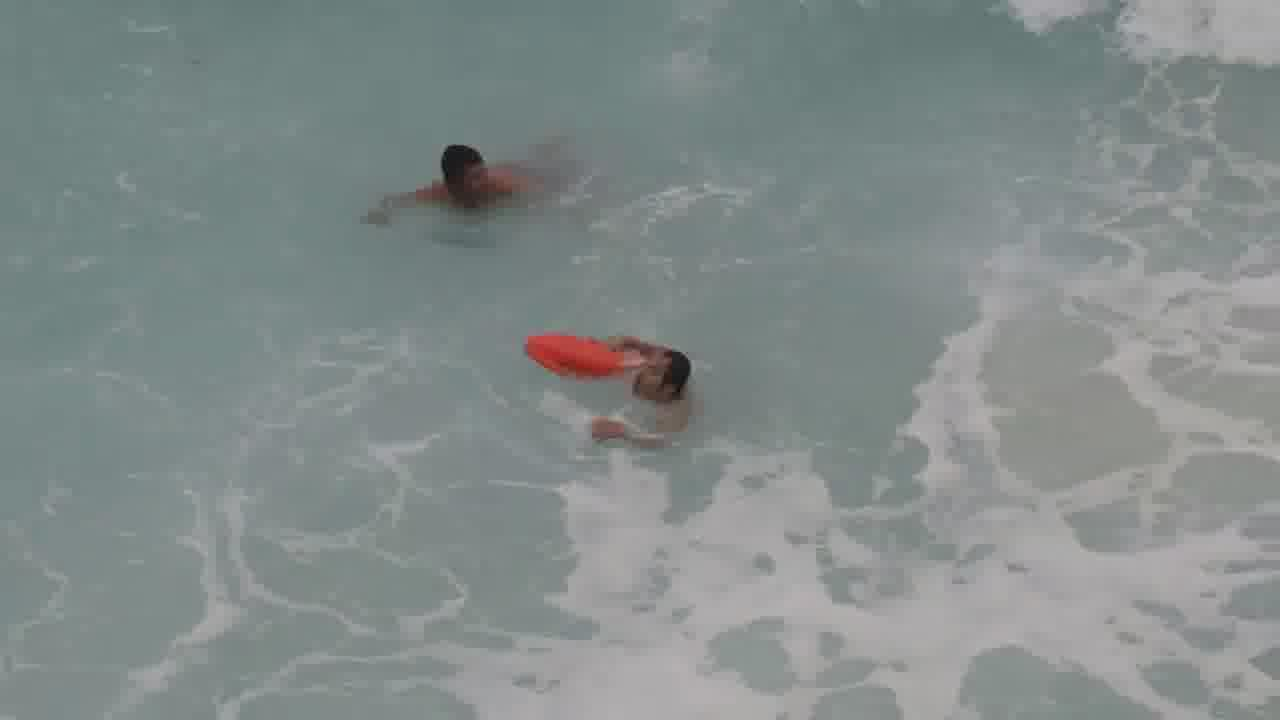human: (427, 122, 499, 226), (628, 334, 700, 412)
